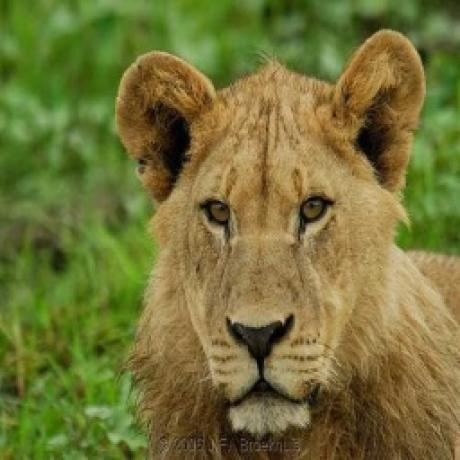Lion: (112, 23, 460, 460)
